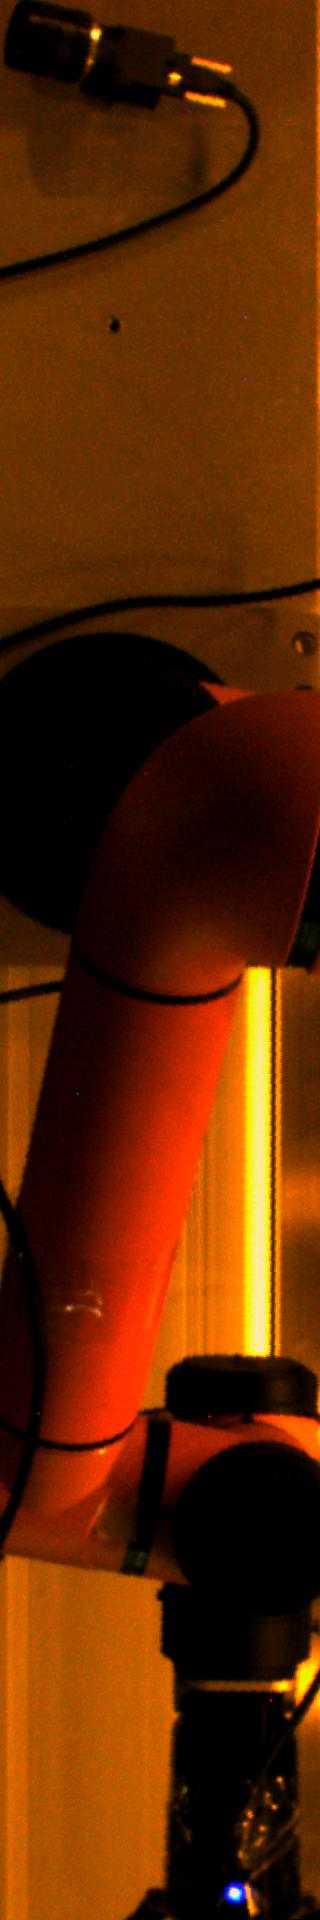keyPoint_1: (219, 1877, 250, 1907)
keyPoint_2: (99, 312, 129, 342)
